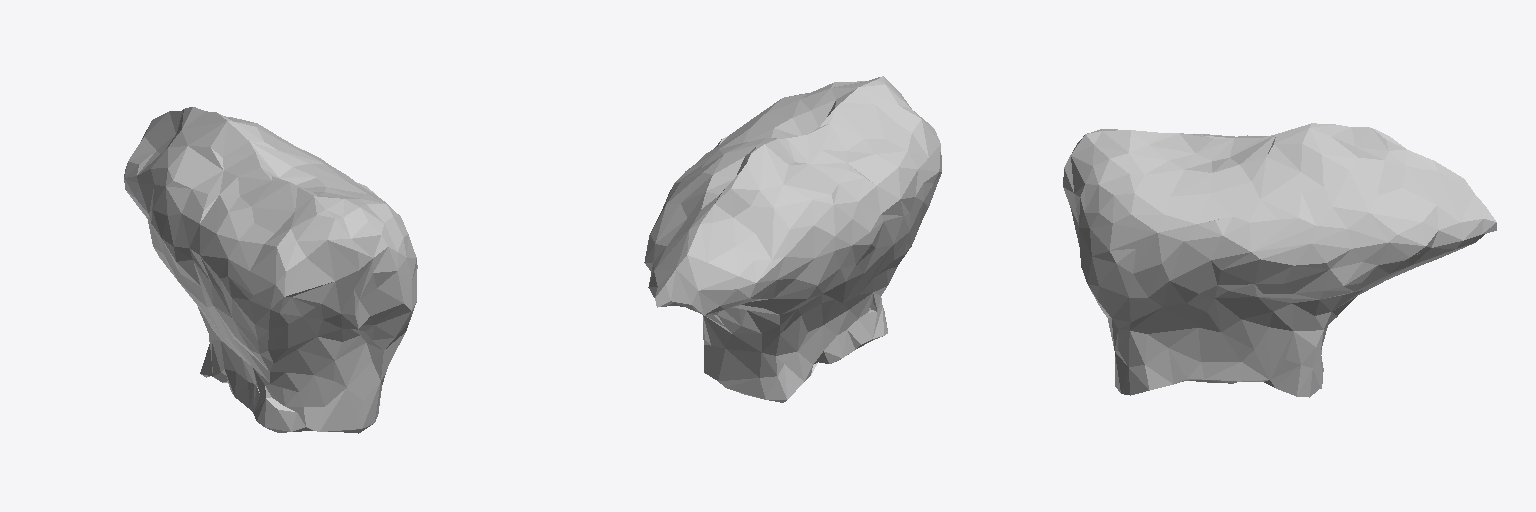
File: cavite_cochon_flipped.obj
3 renders of one model, left to right at view 1: azimuth 30°, elevation 25°; view 2: azimuth 150°, elevation 25°; view 3: azimuth 270°, elevation 25°, orthographic.
Parts seen in each view (by area): view 1: MeshSanglierSansBilleSansTrouSolid; view 2: MeshSanglierSansBilleSansTrouSolid; view 3: MeshSanglierSansBilleSansTrouSolid.
Part boxes in pixels (x1,y1,x2,y2): MeshSanglierSansBilleSansTrouSolid: (124,107,417,433); MeshSanglierSansBilleSansTrouSolid: (644,76,941,402); MeshSanglierSansBilleSansTrouSolid: (1063,123,1496,397).
Bounding box in the file's own units: 46.48 × 59.52 × 92.53.